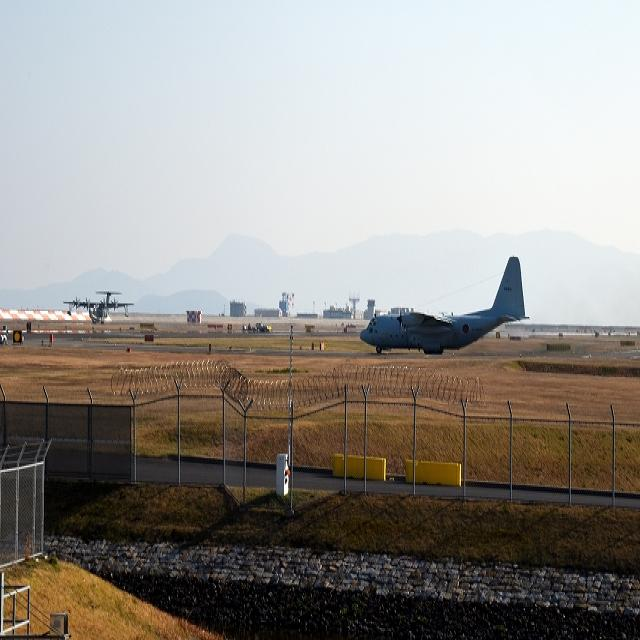MIL_Plane: (55, 251, 194, 353), (62, 288, 135, 326)
